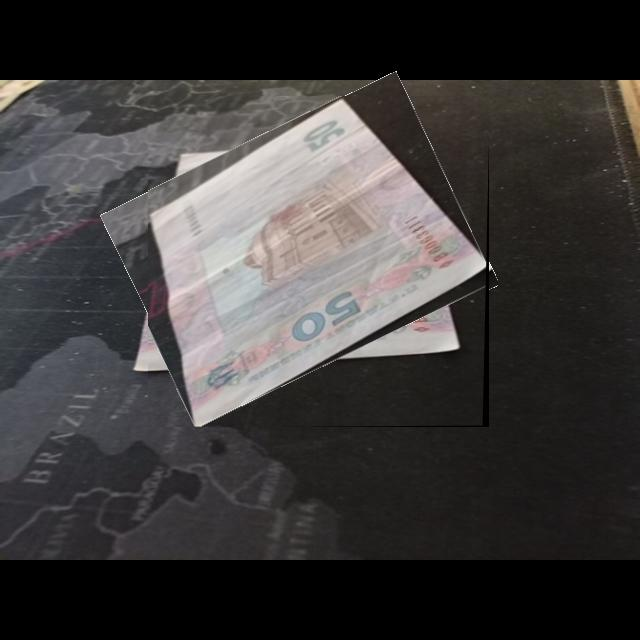50uah: (148, 96, 487, 428)
